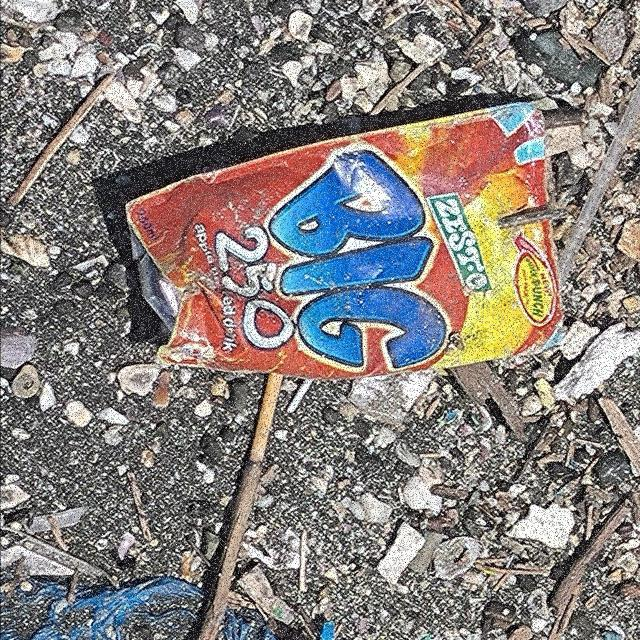plastic_waste: (124, 105, 565, 384)
